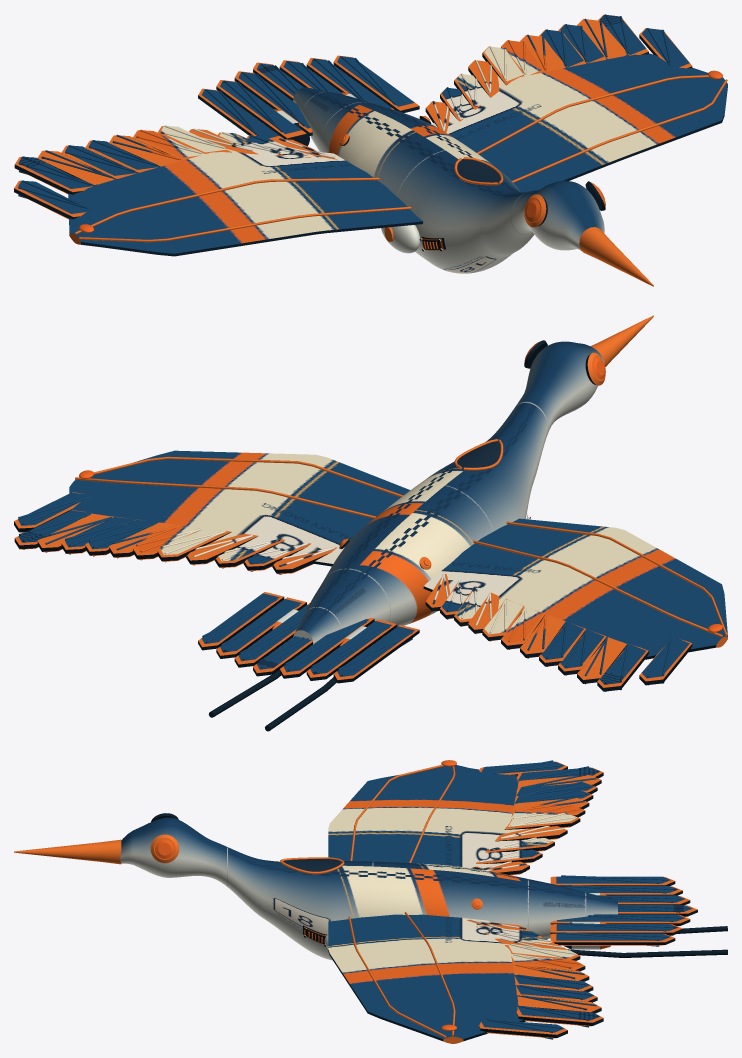
The picture shows the model from 3 angles, top to bottom: view 1: azimuth 30°, elevation 25°; view 2: azimuth 150°, elevation 25°; view 3: azimuth 270°, elevation 25°; orthographic projection. The views are drawn at different scales.
Visible parts, largest first — view 1: egret_hull; view 2: egret_hull; view 3: egret_hull.
Part boxes in pixels (x1=…): egret_hull: x1=14, y1=14, x2=727, y2=286; egret_hull: x1=14, y1=315, x2=727, y2=731; egret_hull: x1=14, y1=760, x2=727, y2=1043.
Size of the model in its own units: 57.92 by 13.46 by 64.
1 material, 1 textured.
